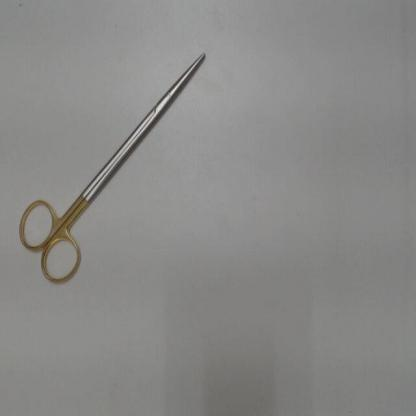7 Metzenbaum Scissors: (15, 52, 208, 292)
